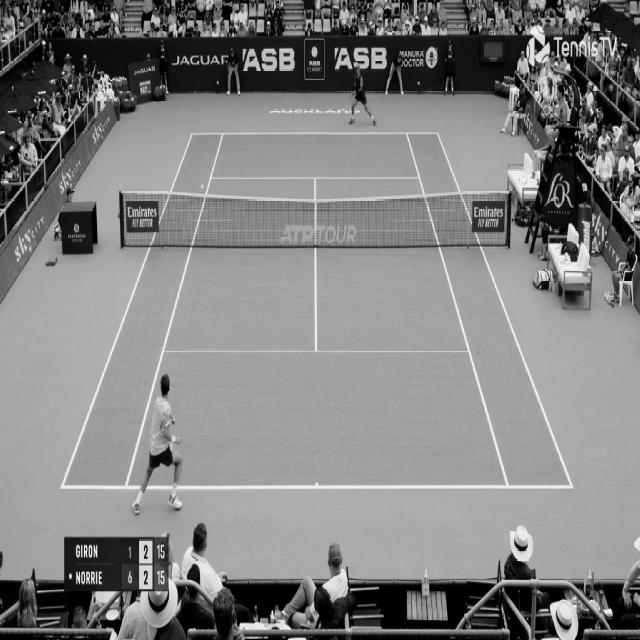tennis-court: (60, 132, 573, 488)
